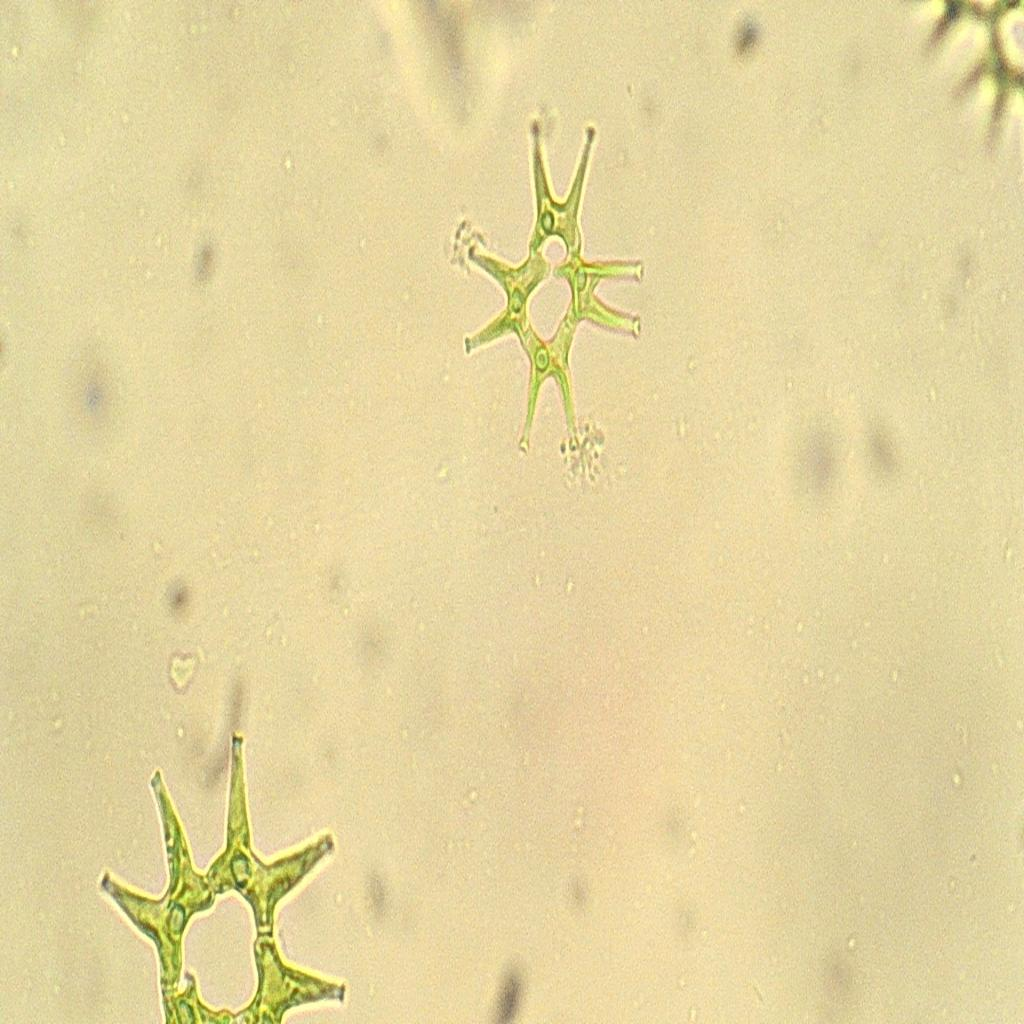Pediastrum_CF: (426, 102, 680, 482)
